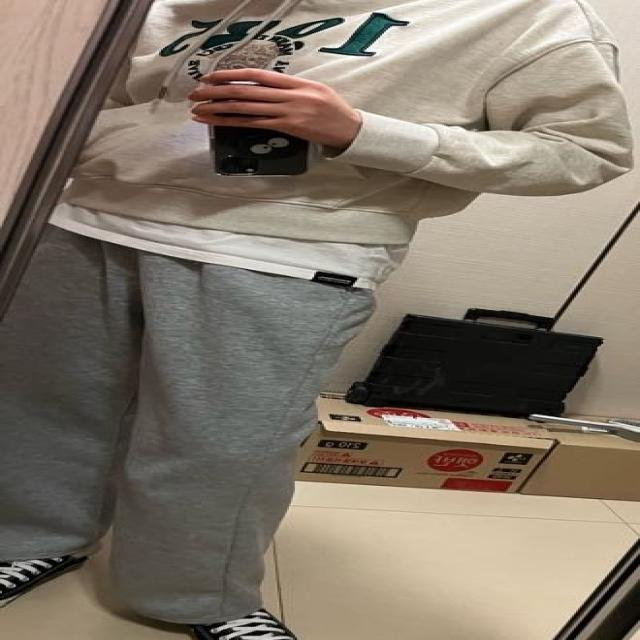hoodies: (62, 0, 640, 245)
trainingpants: (0, 212, 382, 625)
